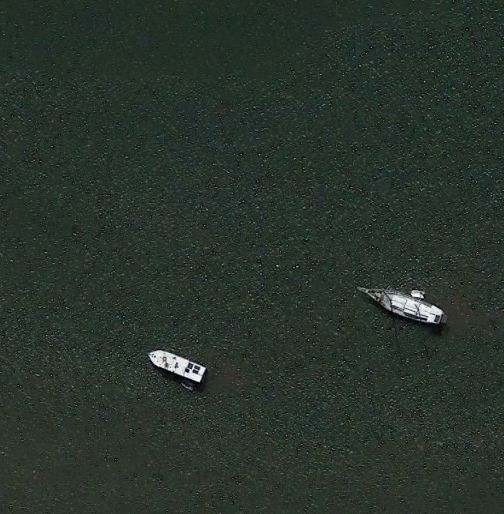boat: (355, 285, 447, 328), (148, 349, 208, 385)
